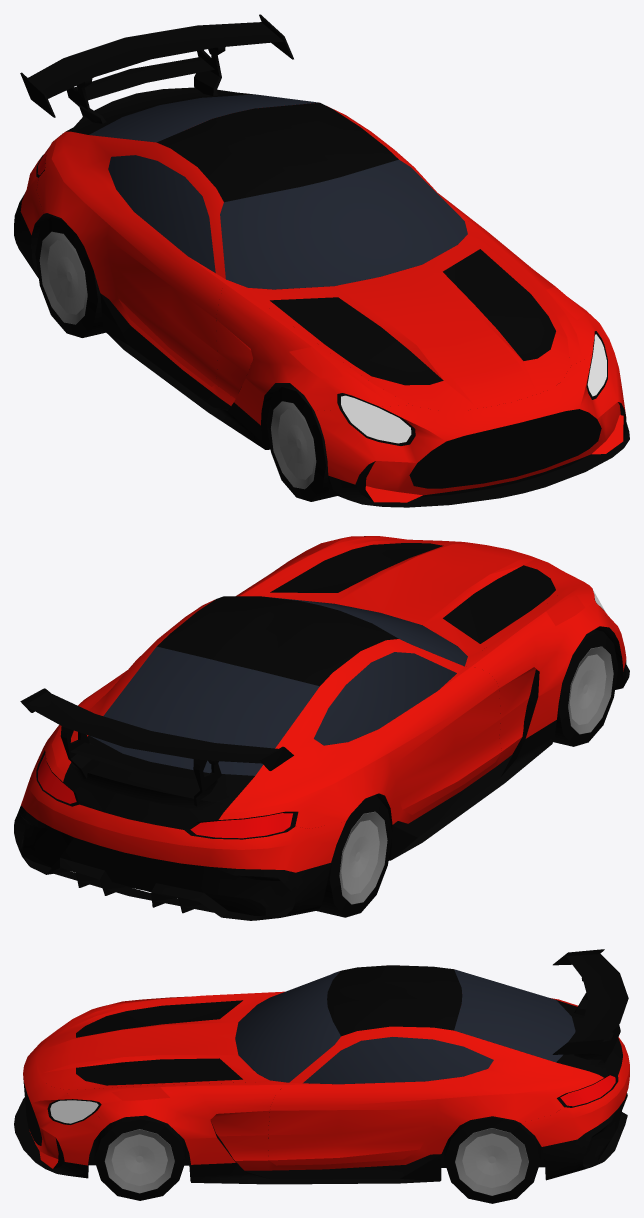
The model's file is car_mb2.glb.
3 views of the same model, one above another, from view 1: azimuth 30°, elevation 25°; view 2: azimuth 150°, elevation 25°; view 3: azimuth 270°, elevation 25° (orthographic). The views are drawn at different scales.
Parts seen in each view (by area): view 1: paint, black_2, glass, lamp_f, tire_BL, tire_FL, rim_BL_2, rim_FL_2, rim_BL, rim_FL; view 2: paint, black_2, glass, tire_BL, lamp_r, tire_FL, rim_BL_2, rim_FL_2, rim_BL, rim_FL; view 3: paint, black_2, glass, tire_BR, tire_FR, rim_BR_2, rim_FR_2, rim_BR, rim_FR, lamp_f, lamp_r.
Part boxes in pixels (<box>): paint: <box>20,103,626,502</box>; black_2: <box>14,14,629,507</box>; glass: <box>89,94,467,289</box>; lamp_f: <box>341,334,606,443</box>; tire_BL: <box>35,215,105,337</box>; tire_FL: <box>266,384,337,501</box>; rim_BL_2: <box>47,240,85,314</box>; rim_FL_2: <box>278,409,314,479</box>; rim_BL: <box>39,231,87,324</box>; rim_FL: <box>271,401,316,489</box>; paint: <box>21,536,626,872</box>; black_2: <box>14,536,629,920</box>; glass: <box>90,597,467,775</box>; tire_BL: <box>297,795,392,917</box>; lamp_r: <box>37,753,292,838</box>; tire_FL: <box>553,629,618,746</box>; rim_BL_2: <box>341,820,379,894</box>; rim_FL_2: <box>569,654,606,724</box>; rim_BL: <box>339,811,387,904</box>; rim_FL: <box>568,646,613,734</box>; paint: <box>23,991,629,1170</box>; black_2: <box>14,949,628,1184</box>; glass: <box>235,969,575,1084</box>; tire_BR: <box>443,1116,541,1203</box>; tire_FR: <box>94,1115,186,1200</box>; rim_BR_2: <box>462,1133,521,1187</box>; rim_FR_2: <box>111,1134,167,1185</box>; rim_BR: <box>455,1128,528,1195</box>; rim_FR: <box>104,1129,174,1193</box>; lamp_f: <box>50,1100,98,1123</box>; lamp_r: <box>560,1075,615,1106</box>.
Bounding box in the file's own units: 2.01 × 1.31 × 4.59.
